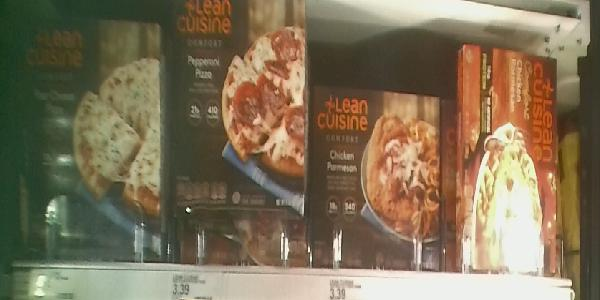pizza1: (2, 14, 170, 264), (168, 1, 307, 210), (455, 43, 562, 278), (310, 88, 442, 272)
